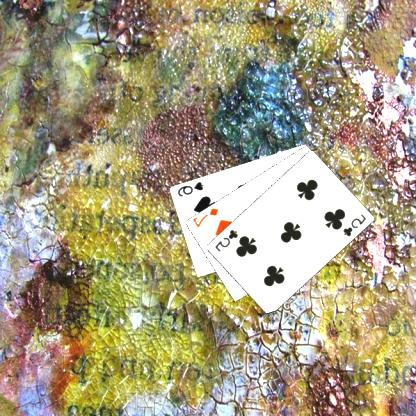5C: (341, 211, 368, 238), (214, 226, 241, 252)
6S: (176, 178, 206, 198)
7D: (192, 205, 221, 229)
